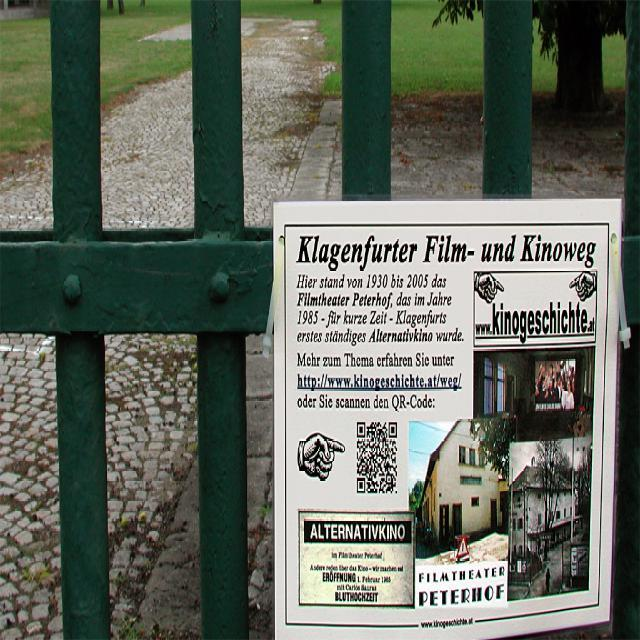qrcode: (358, 423, 397, 493)
